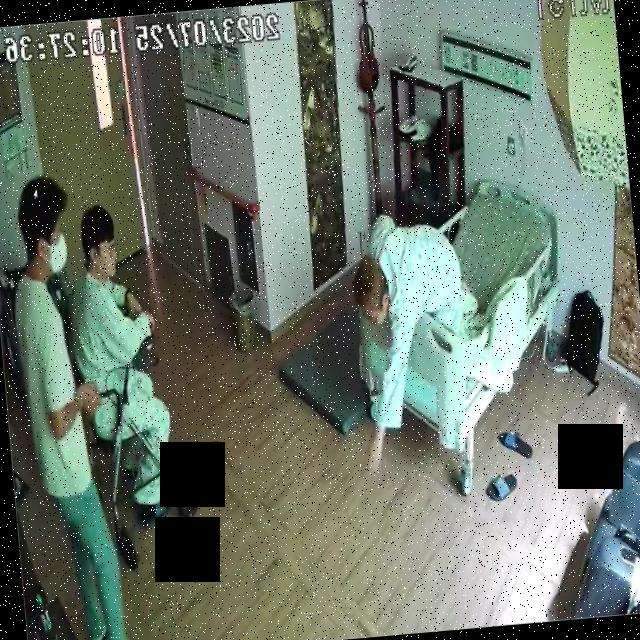danger: (345, 212, 479, 490)
patient: (345, 212, 479, 490)
